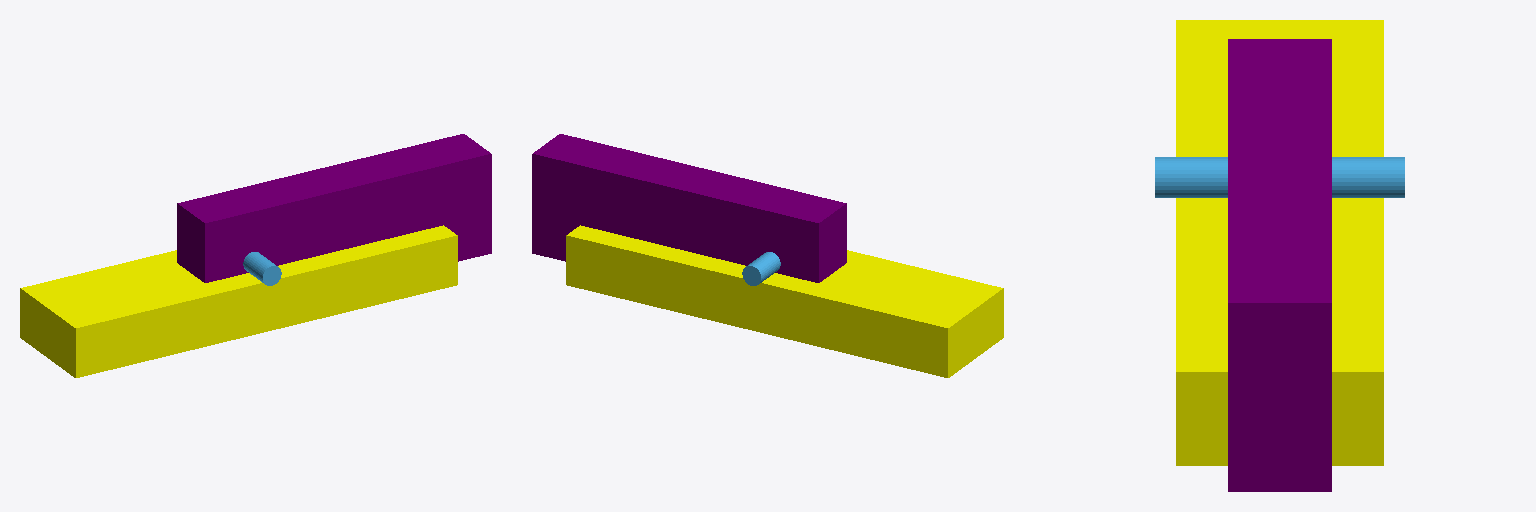
The robot description file, URDF, robot "Slider":
<robot name="Slider">
	<link name="base_link">
	
		<visual name="">
			<origin xyz="0 0 0.025" rpy="0 0 0"/>
			<geometry>
				<box size="0.4 0.1 0.05"/>
			</geometry>
			<material>
			<color rgba="1 1 0 1"/>
			</material>
		</visual>

		<collision name="">
			<origin xyz="0 0 0.025" rpy="0 0 0"/>
			<geometry>
				<box size="0.4 0.1 0.05"/>
			</geometry>
		</collision>

		<inertial>
			<mass value="1"/>
		</inertial>

	</link>
	
	<link name="arm">
	
		<visual name="arm">
			<origin xyz="0.1 0.0 0" rpy="0 0 0"/>
			<geometry>
				<box size="0.3 0.05 0.1"/>
			</geometry>
			<material>
			<color rgba="0.5 0 0.5 1"/>
			</material>
		</visual>
		
		<visual name="shaft">
			<origin xyz="0 0 0" rpy="1.57 0 0"/>
			<geometry>
			<cylinder radius="0.01" length="0.12"/>
			</geometry>
			<material name="">
			
			</material>
		</visual>


		<collision name="">
			<origin xyz="0.1 0.0 0" rpy="0 0 0"/>
			<geometry>
				<box size="0.3 0.05 0.1"/>
			</geometry>
		</collision>

		<inertial>
			<mass value="1"/>
		</inertial>

	</link>

	<joint name="arm servo" type="prismatic">
		<origin xyz="0 0 0.06" rpy="0 0 0"/>
		<parent link="base_link"/>
		<child link="arm"/>
		<axis xyz="1.0 0.0 0.0"/>
		<limit lower="-0.1" upper="0.2" velocity="0.2"/>
	</joint>

</robot>

--- Facts derived from the render (not from the file) ---
Views: 3 orthographic renders of the robot side by side, from view 1: azimuth 30°, elevation 25°; view 2: azimuth 150°, elevation 25°; view 3: azimuth 270°, elevation 25°.
Model Slider with 2 links and 1 joints (1 prismatic), rooted at base_link, posed all joints at 0.
Links seen in each view (by area): view 1: base_link, arm; view 2: base_link, arm; view 3: arm, base_link.
Boxes of the visible links, x1,y1,x2,y2 form: base_link: (20, 225, 457, 377); arm: (177, 134, 491, 285); base_link: (566, 225, 1003, 377); arm: (532, 134, 846, 285); arm: (1155, 39, 1404, 491); base_link: (1176, 20, 1383, 465).
Bounding box of the posed robot: 0.45 × 0.12 × 0.11 m (x, y, z).
Geometry: primitives only (box / cylinder / sphere), no mesh files.